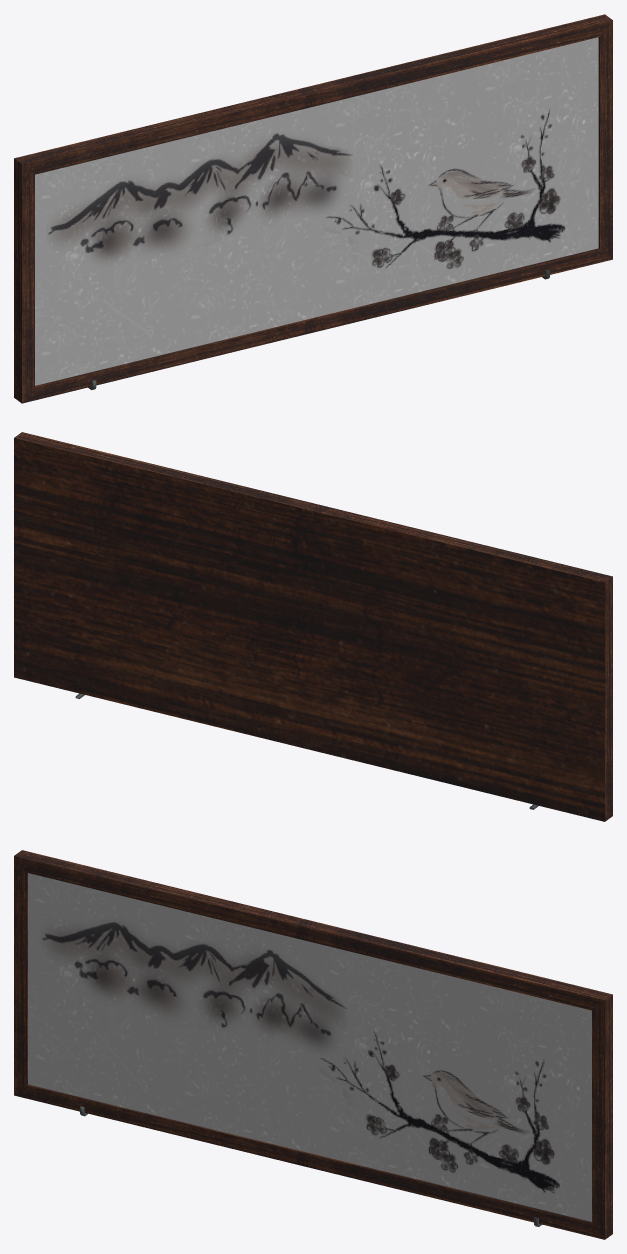
The model's file is jov_Pictureframe01b.fbx.
The picture shows the model from 3 angles, top to bottom: view 1: azimuth 30°, elevation 25°; view 2: azimuth 150°, elevation 25°; view 3: azimuth 330°, elevation 25°; orthographic projection.
Visible parts, largest first — view 1: jov_Pictureframe01b; view 2: jov_Pictureframe01b; view 3: jov_Pictureframe01b.
Boxes of the visible parts, x1,y1,x2,y2 form: jov_Pictureframe01b: (14, 14, 612, 403); jov_Pictureframe01b: (14, 432, 612, 821); jov_Pictureframe01b: (14, 850, 612, 1239).
Size of the model in its own units: 132 by 51.71 by 5.23.
